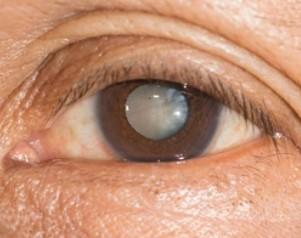eye: (100, 76, 220, 163)
